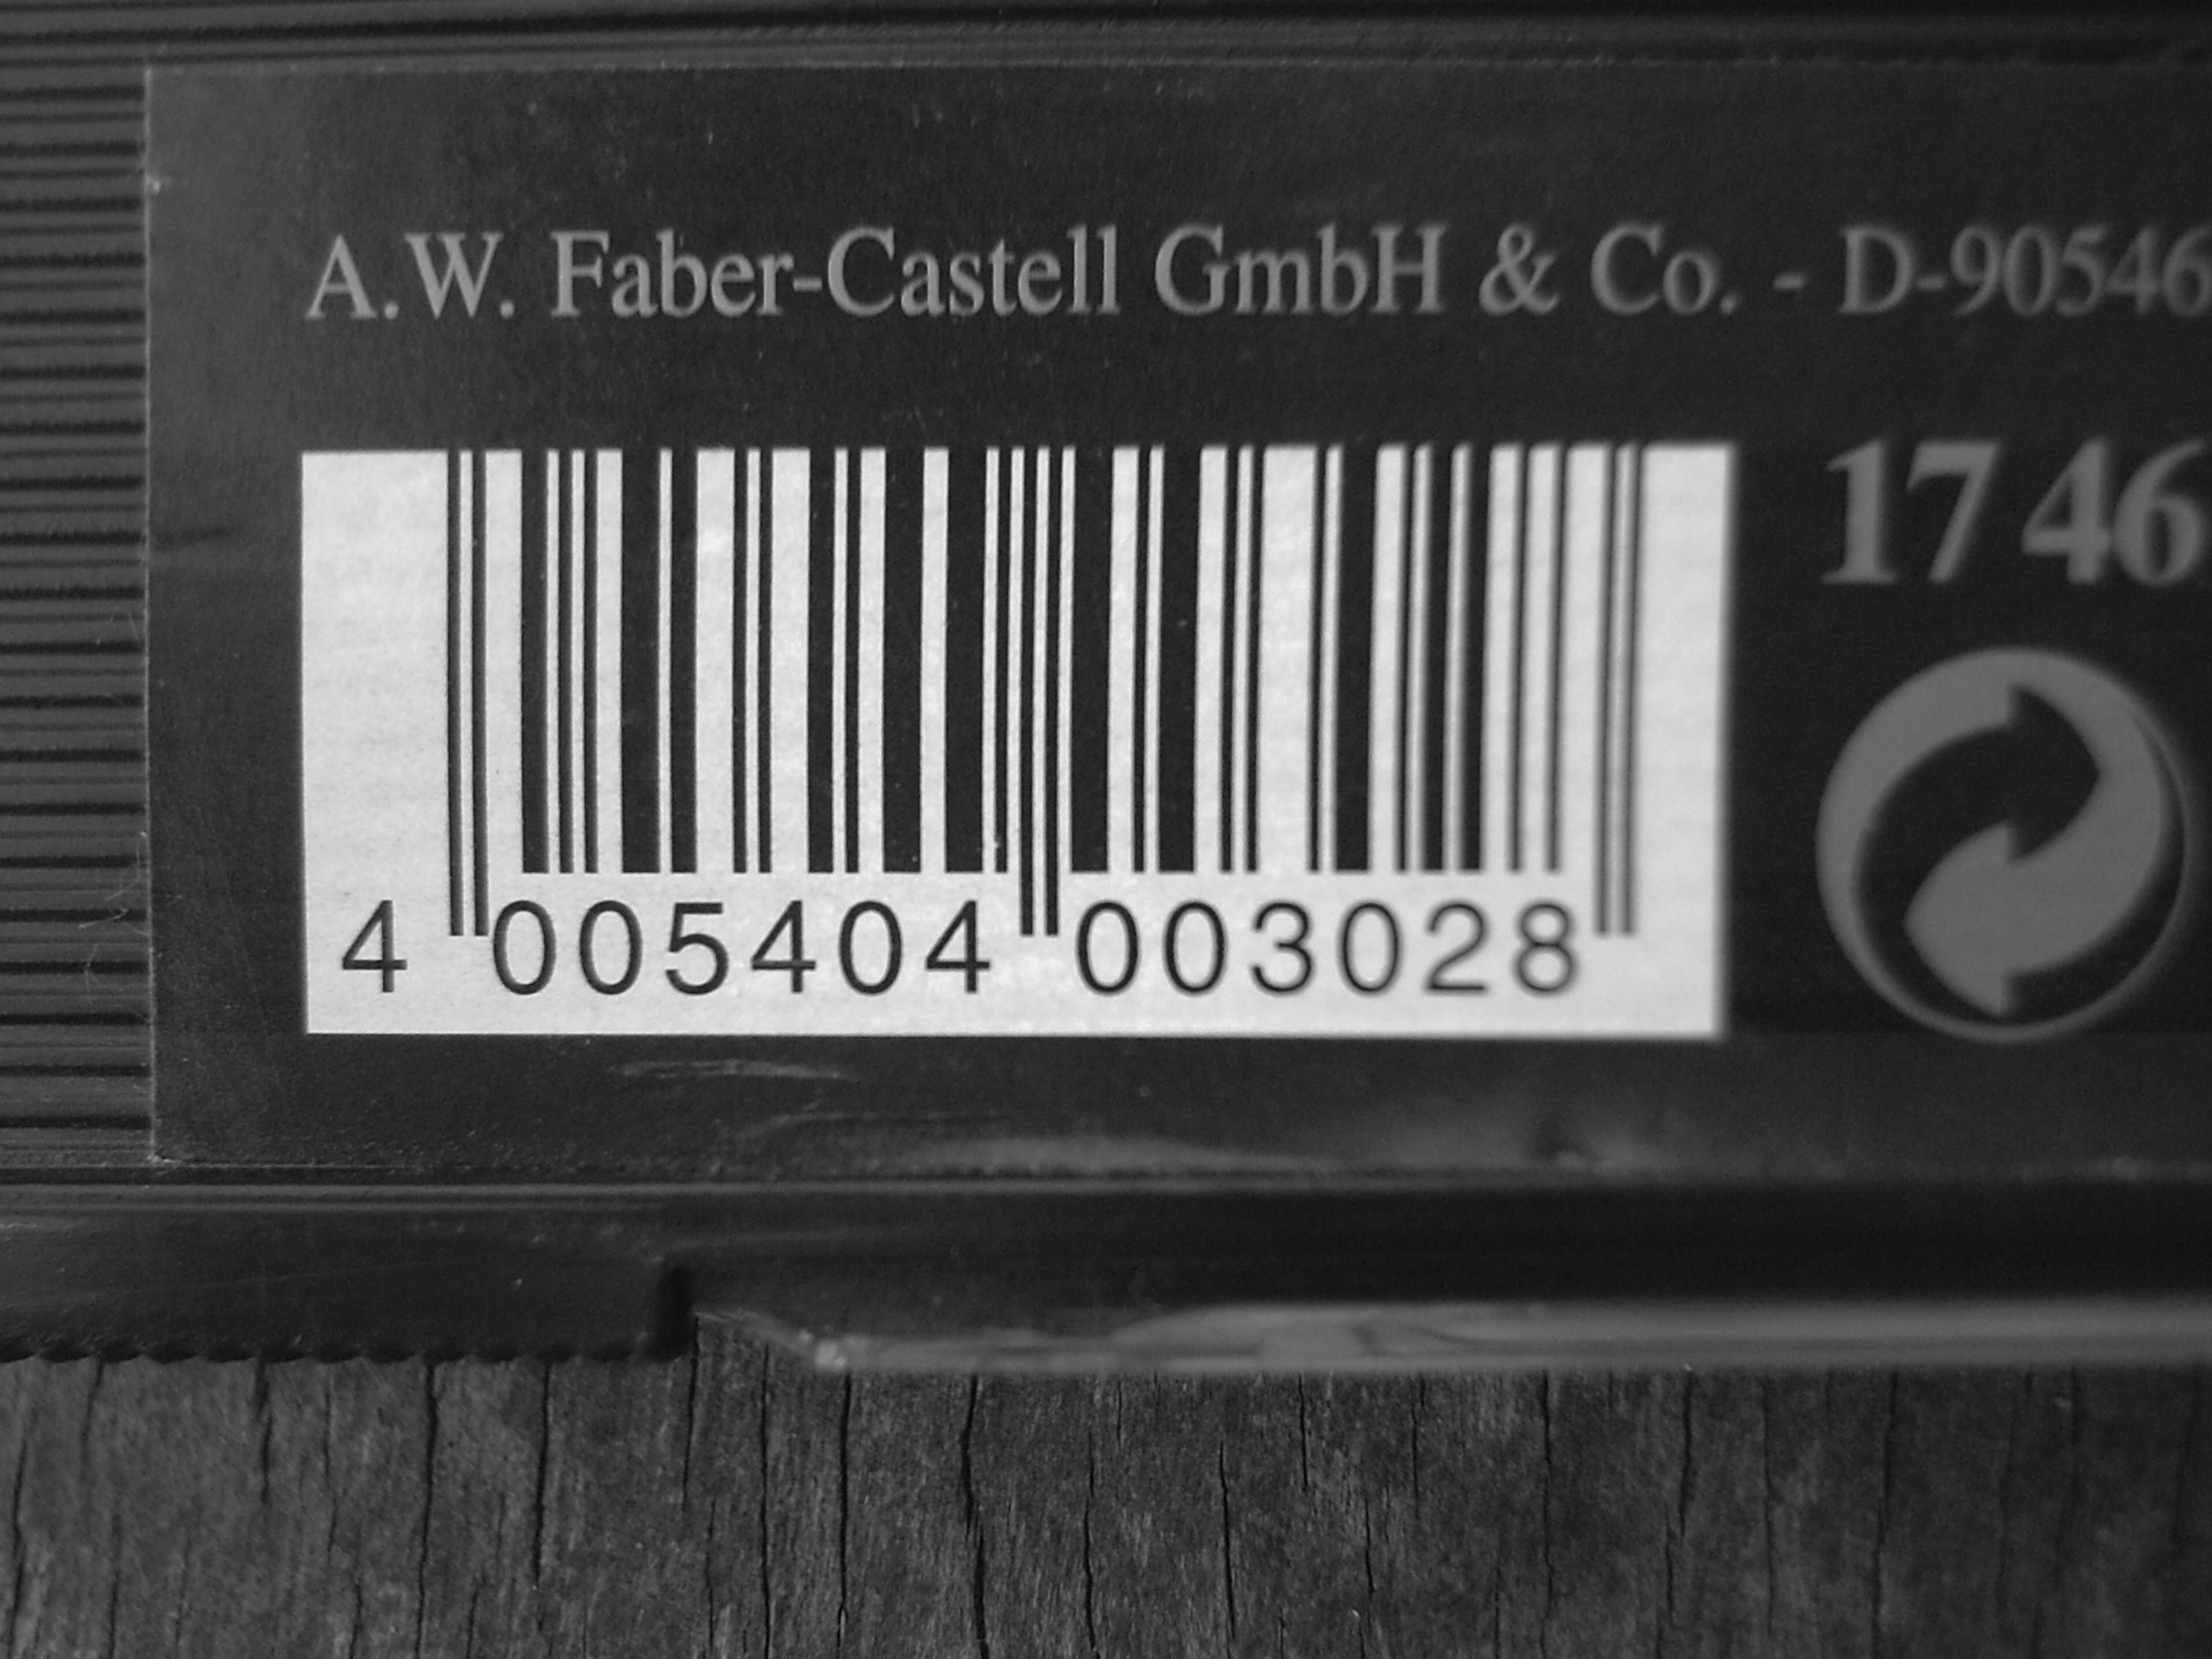Barcode: (340, 468, 1739, 1014)
